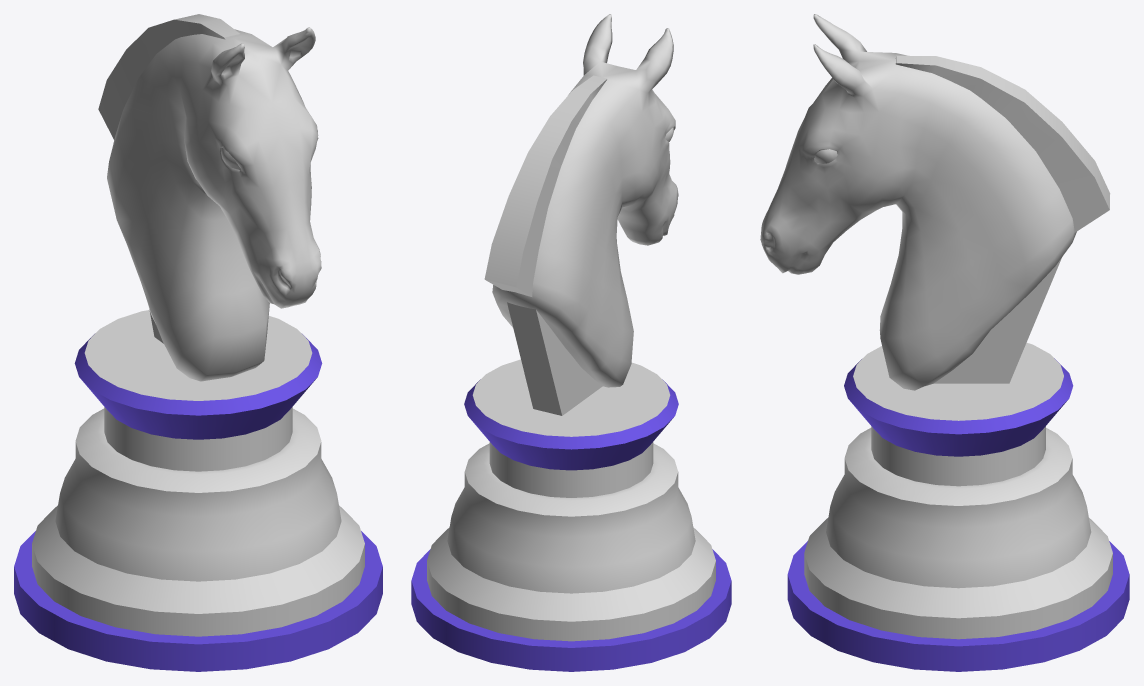
Rendered from horse.fbx.
3 views of the same model, side by side, from view 1: azimuth 30°, elevation 25°; view 2: azimuth 150°, elevation 25°; view 3: azimuth 270°, elevation 25° (orthographic). The views are drawn at different scales.
Visible parts, largest first — view 1: horse; view 2: horse; view 3: horse.
Part boxes in pixels (<box>): horse: <box>14,14,382,671</box>; horse: <box>411,14,731,671</box>; horse: <box>760,14,1129,671</box>.
Bounding box in the file's own units: 182 × 336 × 197.
